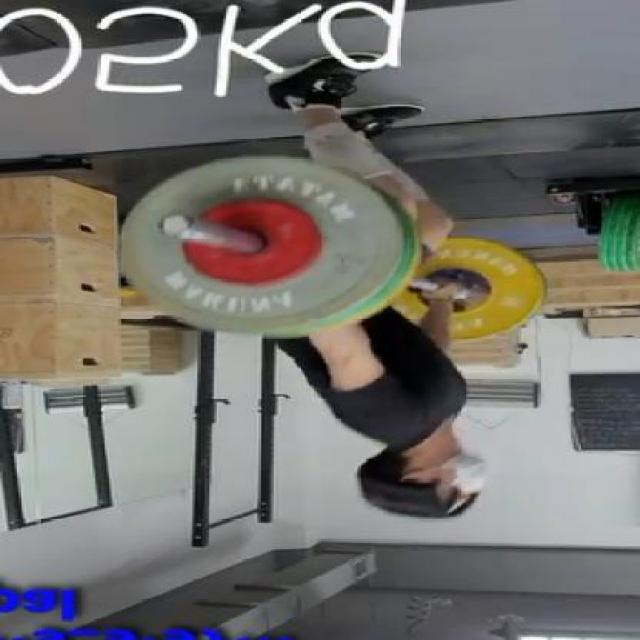Barbell: (155, 210, 200, 242)
